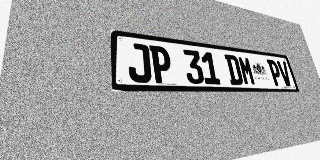1: (199, 51, 221, 85)
3: (183, 49, 205, 84)
D: (224, 54, 244, 85)
J: (127, 42, 152, 83)
M: (237, 56, 256, 85)
P: (149, 45, 173, 83), (266, 59, 284, 86)
V: (276, 60, 293, 86)
